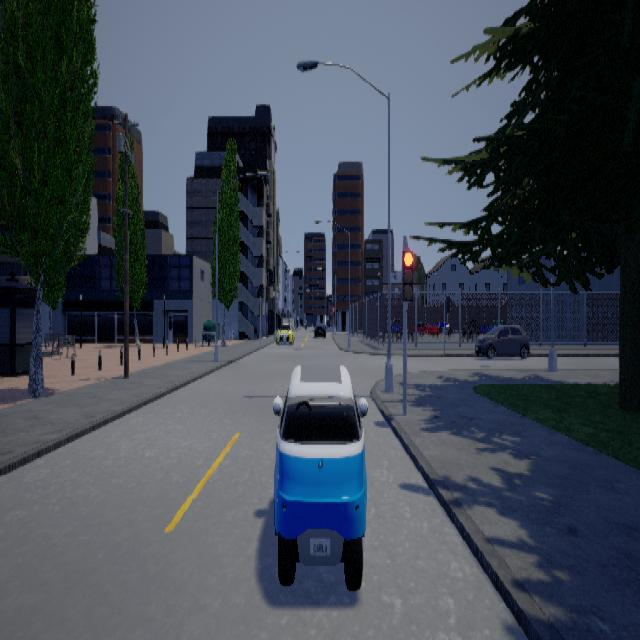red_light: (401, 239, 412, 310)
vehicle: (272, 362, 367, 590), (474, 320, 529, 357), (273, 320, 292, 342), (312, 317, 327, 342)
